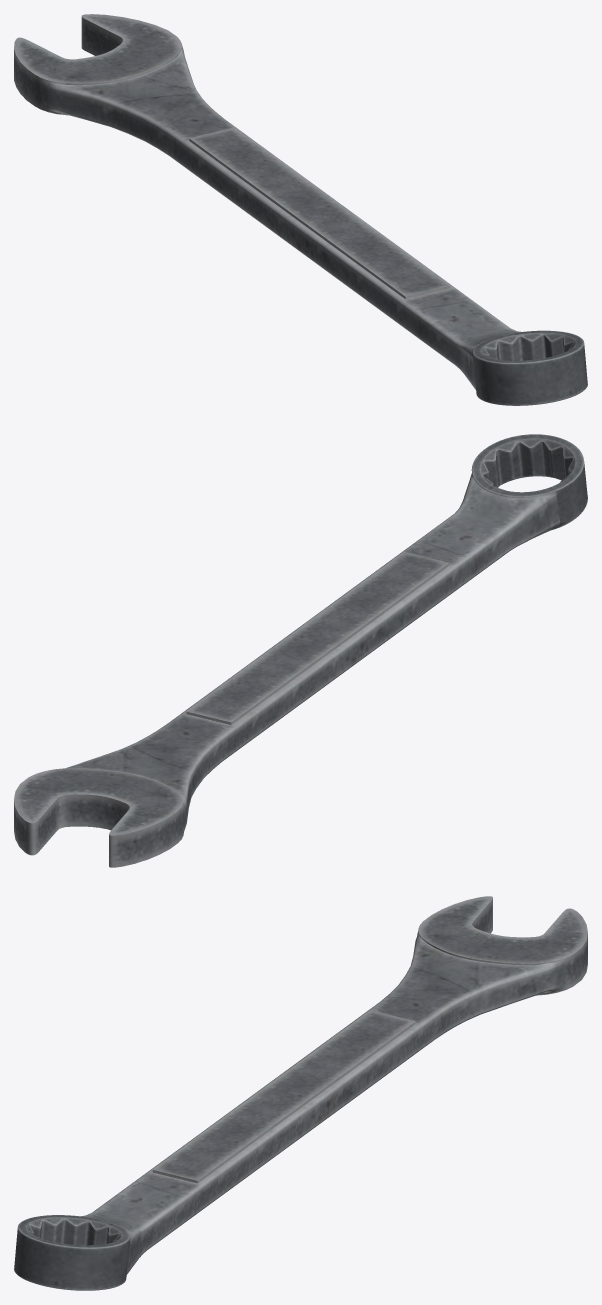
File: wrench.glb
3 renders of one model, top to bottom at view 1: azimuth 30°, elevation 25°; view 2: azimuth 150°, elevation 25°; view 3: azimuth 330°, elevation 25°, orthographic.
Parts seen in each view (by area): view 1: combination_wrench; view 2: combination_wrench; view 3: combination_wrench.
Boxes of the visible parts, x1,y1,x2,y2 form: combination_wrench: (14,14,587,405); combination_wrench: (14,434,587,867); combination_wrench: (14,896,587,1290).
Size of the model in its own units: 0.0566 by 0.0215 by 0.337.
1 material, 1 textured.
